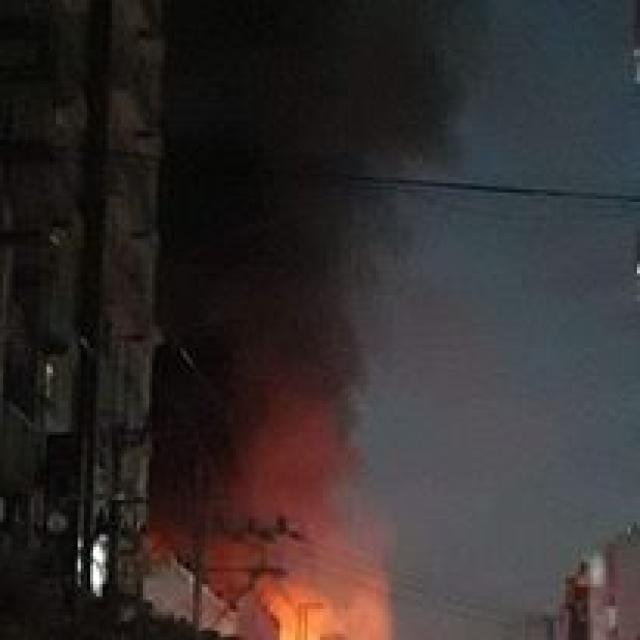Fire: (143, 495, 390, 640)
Smoke: (168, 0, 478, 559)
